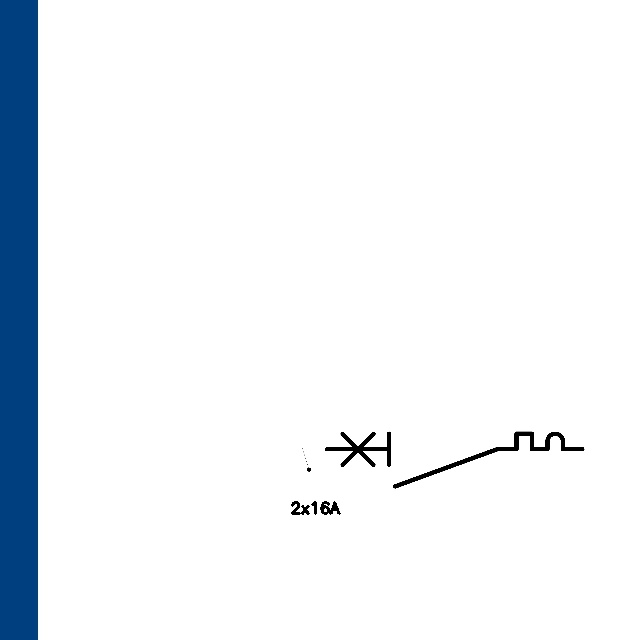interruptor_termomagnetico: (320, 427, 589, 492)
